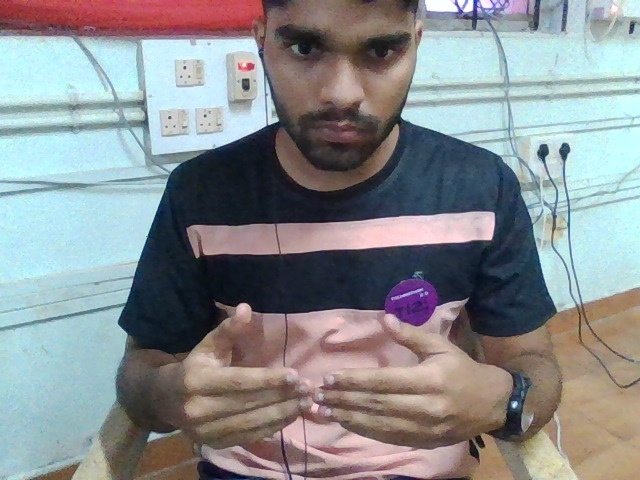more: (147, 274, 509, 477)
